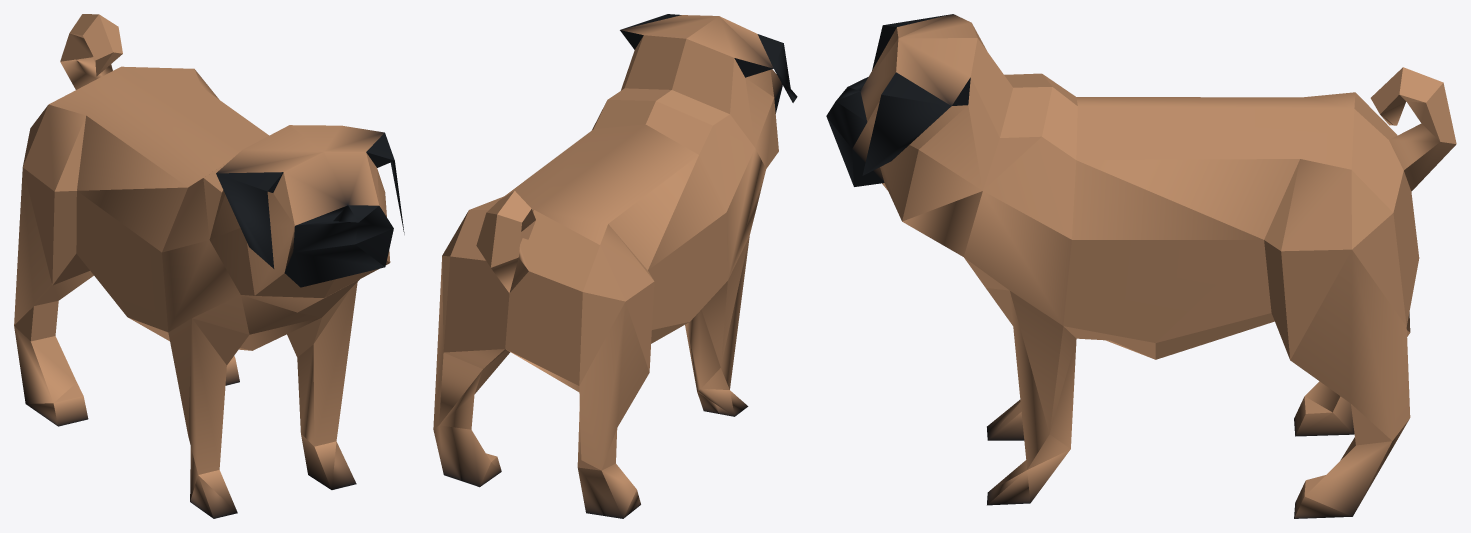
File: cc0-pug-lod1.glb
The picture shows the model from 3 angles, left to right: view 1: azimuth 30°, elevation 25°; view 2: azimuth 150°, elevation 25°; view 3: azimuth 270°, elevation 25°; orthographic projection. The views are drawn at different scales.
Parts seen in each view (by area): view 1: part_0; view 2: part_0; view 3: part_0.
Part boxes in pixels (left/top/right/bottom): part_0: left=14, top=14, right=404, bottom=518; part_0: left=433, top=14, right=797, bottom=518; part_0: left=826, top=14, right=1456, bottom=518.
Size of the model in its own units: 1.45 by 2.65 by 3.5.
